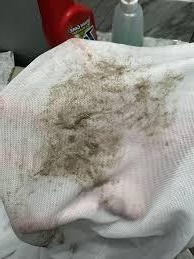earth: (37, 71, 124, 178)
